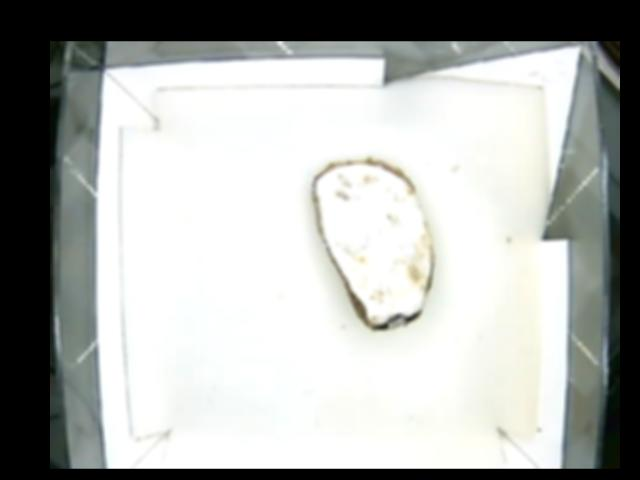Shell: (310, 157, 433, 334)
